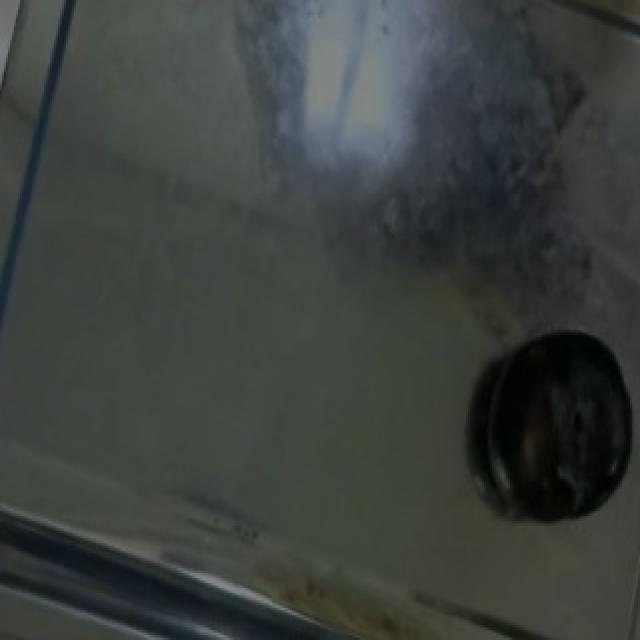Fruit: (476, 330, 638, 548)
